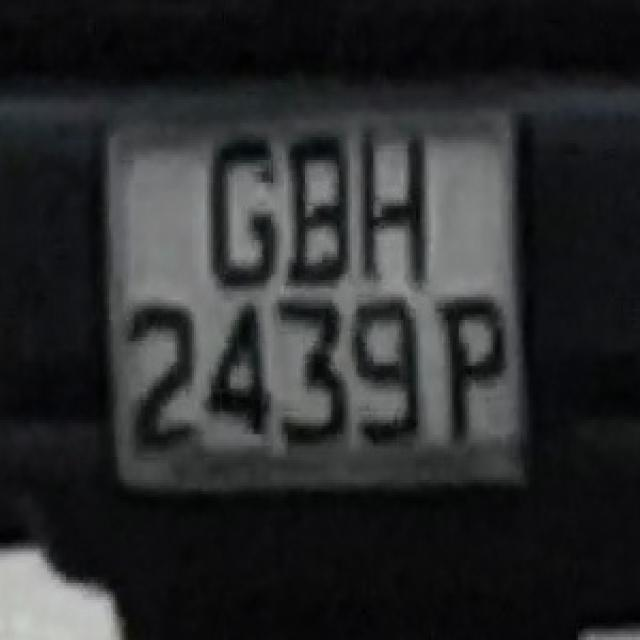2: (117, 297, 207, 457)
3: (267, 294, 350, 452)
4: (194, 292, 284, 454)
9: (346, 294, 422, 449)
B: (280, 128, 356, 288)
G: (200, 129, 280, 297)
H: (356, 128, 433, 286)
P: (435, 288, 512, 448)
